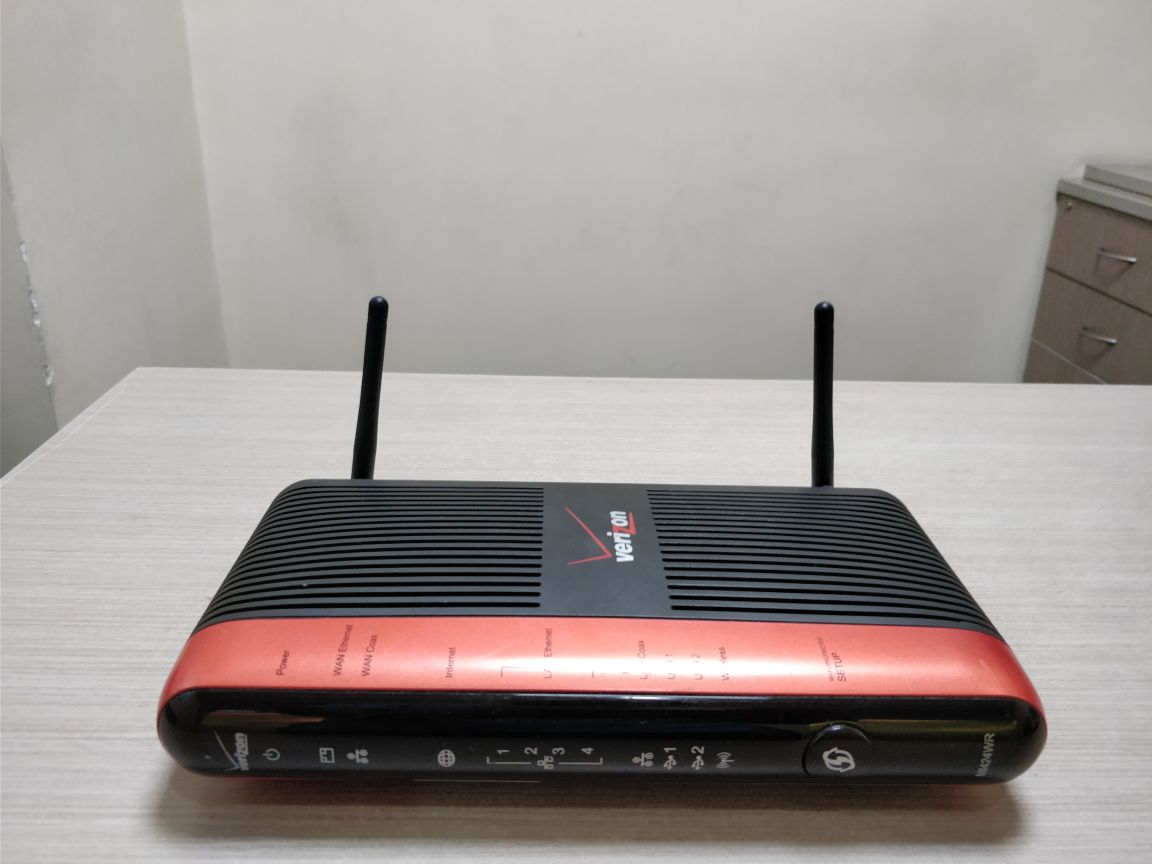Verizon Router: (136, 310, 1072, 831)
